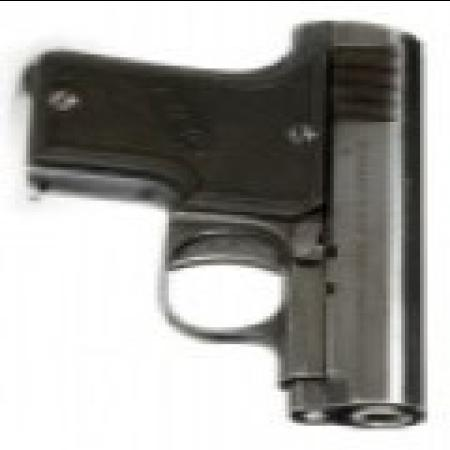Pistol: (23, 20, 435, 430)
